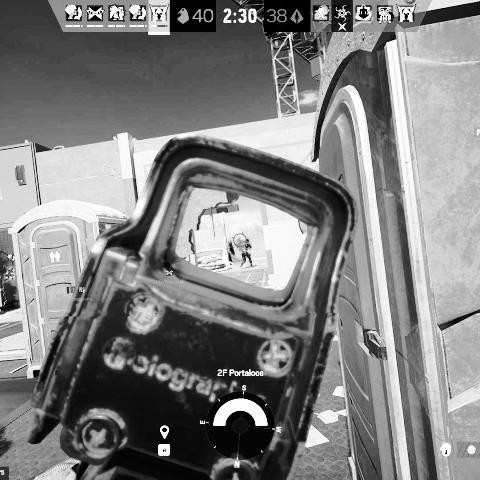Character: (240, 238, 254, 269)
Friend_label: (156, 268, 184, 286), (70, 286, 93, 302), (3, 253, 20, 270)
Head: (246, 238, 250, 244)
